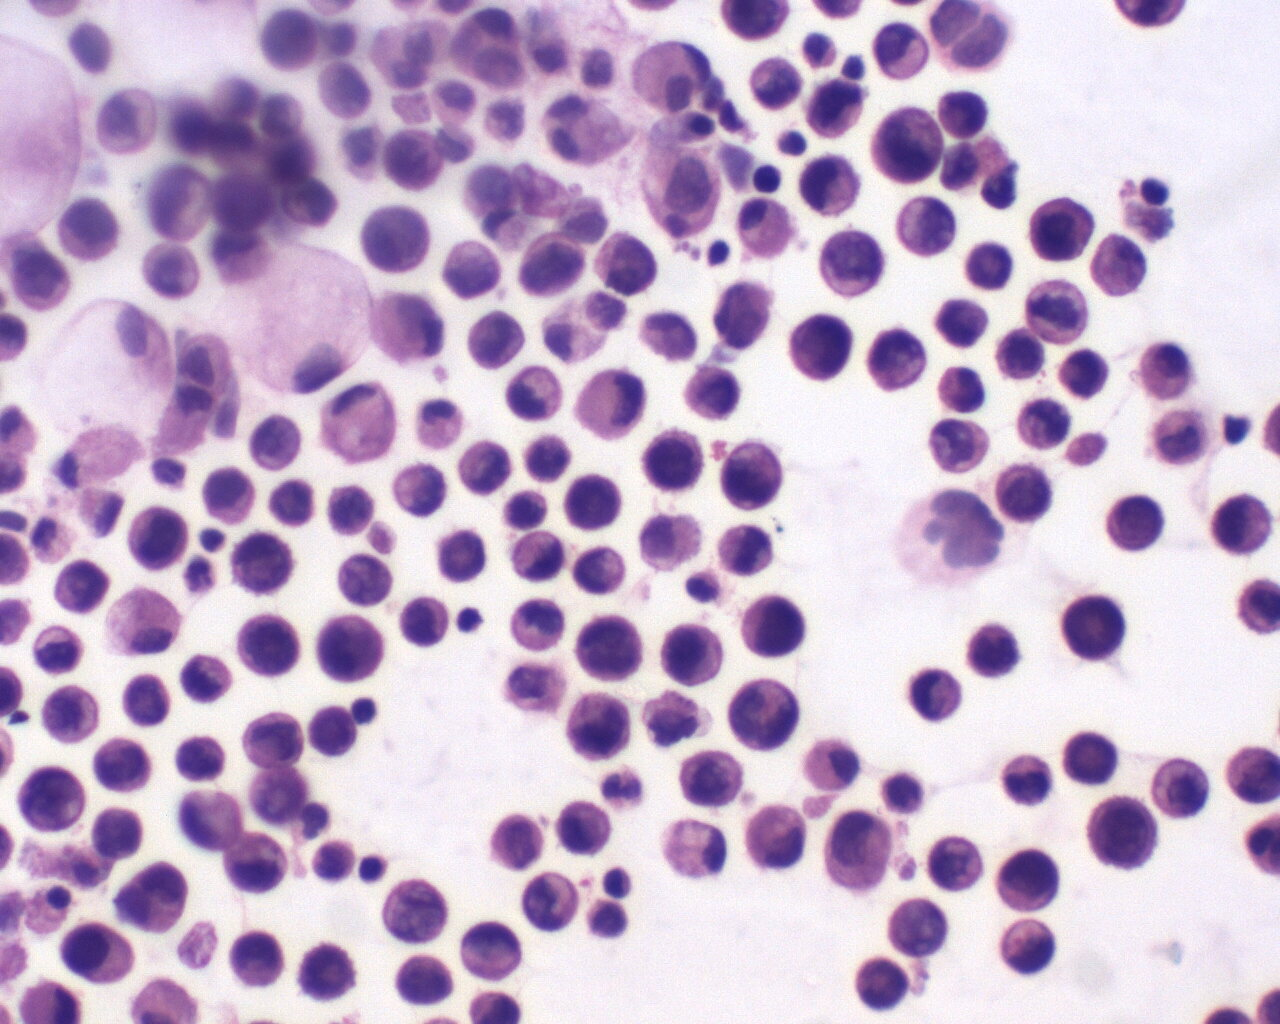ab: (1081, 789, 1166, 872), (564, 608, 655, 684), (311, 604, 391, 690), (869, 103, 948, 188), (723, 676, 805, 753), (353, 200, 438, 274), (784, 306, 859, 389), (517, 231, 596, 309), (561, 686, 637, 766), (231, 607, 307, 684), (16, 762, 93, 837), (811, 223, 888, 298), (1025, 195, 1099, 271), (55, 921, 139, 986), (655, 618, 732, 689), (986, 847, 1066, 916), (222, 529, 302, 597), (720, 436, 787, 517), (587, 227, 660, 298), (1061, 586, 1128, 662), (793, 155, 870, 222), (123, 505, 195, 576), (865, 325, 937, 396), (53, 193, 123, 266), (379, 123, 450, 194), (740, 590, 811, 660), (639, 426, 708, 495), (462, 305, 531, 374), (564, 472, 634, 539), (804, 77, 872, 143), (993, 461, 1058, 528), (1106, 491, 1173, 556), (1217, 738, 1280, 808), (680, 360, 746, 426), (437, 236, 504, 301), (238, 707, 306, 771), (297, 938, 360, 1005), (964, 619, 1027, 686), (925, 827, 986, 895), (88, 734, 155, 796), (852, 955, 918, 1018), (50, 555, 116, 618), (391, 952, 461, 1010), (928, 415, 991, 478), (452, 437, 515, 498), (520, 869, 580, 934), (1015, 394, 1075, 456), (990, 328, 1054, 386), (1051, 347, 1111, 403), (121, 669, 177, 726)
histo: (215, 238, 374, 403), (32, 295, 173, 439), (320, 377, 398, 468), (99, 582, 189, 660), (656, 815, 734, 885)
lymph: (748, 161, 793, 197), (355, 845, 394, 886)
meso: (729, 195, 797, 265), (1141, 334, 1197, 404)
